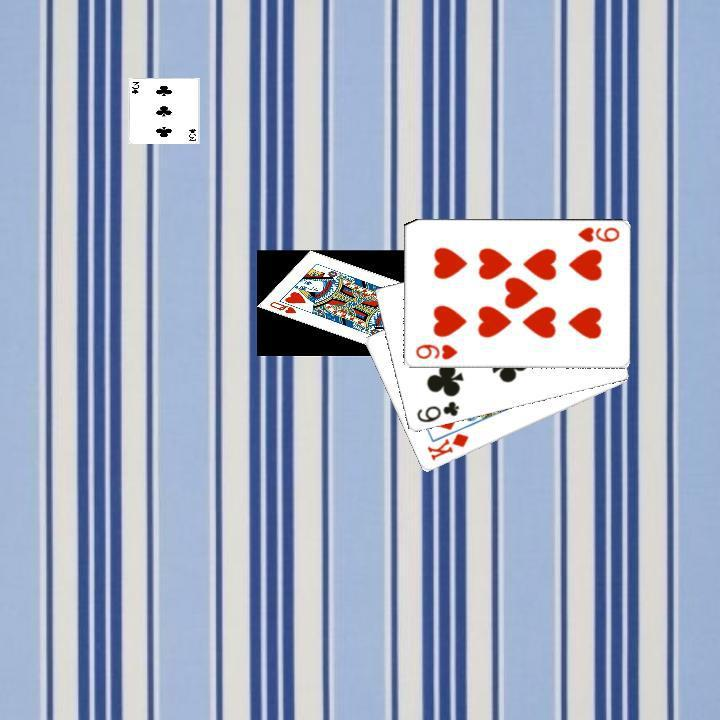6: (412, 397, 461, 425)
9: (411, 340, 459, 362), (573, 223, 621, 244)
K: (423, 429, 471, 463)
